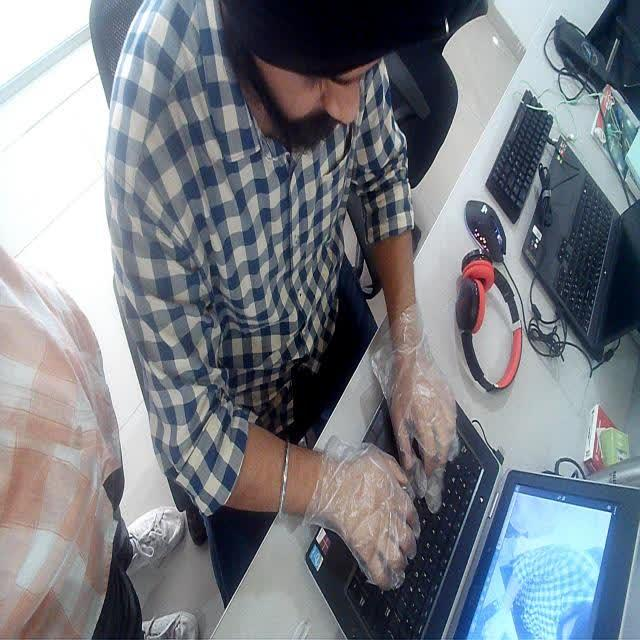with_gloves: (371, 313, 503, 540), (306, 436, 422, 583), (0, 0, 1, 1)
